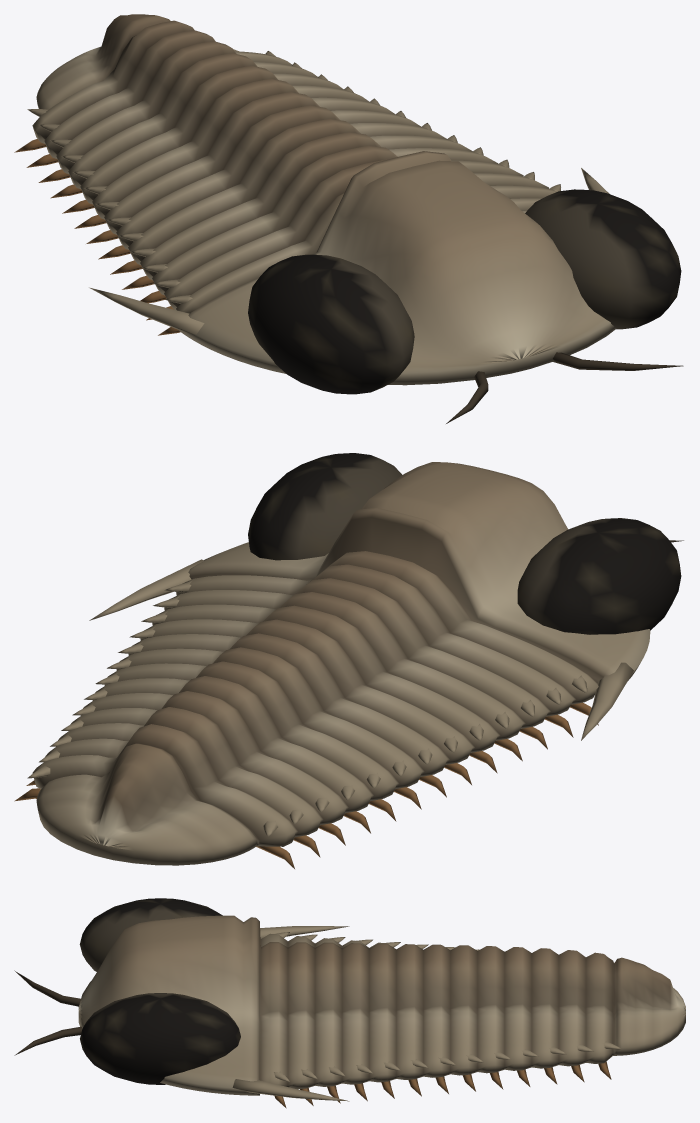
Rendered from CarolinitesGenacinaca.fbx.
The picture shows the model from 3 angles, top to bottom: view 1: azimuth 30°, elevation 25°; view 2: azimuth 150°, elevation 25°; view 3: azimuth 270°, elevation 25°; orthographic projection. The views are drawn at different scales.
Visible parts, largest first — view 1: CarolinitesGenacinaca; view 2: CarolinitesGenacinaca; view 3: CarolinitesGenacinaca.
Boxes of the visible parts, x1=… form: CarolinitesGenacinaca: x1=14, y1=14, x2=683, y2=423; CarolinitesGenacinaca: x1=14, y1=453, x2=683, y2=868; CarolinitesGenacinaca: x1=14, y1=898, x2=685, y2=1108.
Size of the model in its own units: 1.02 by 0.2856 by 1.66.
